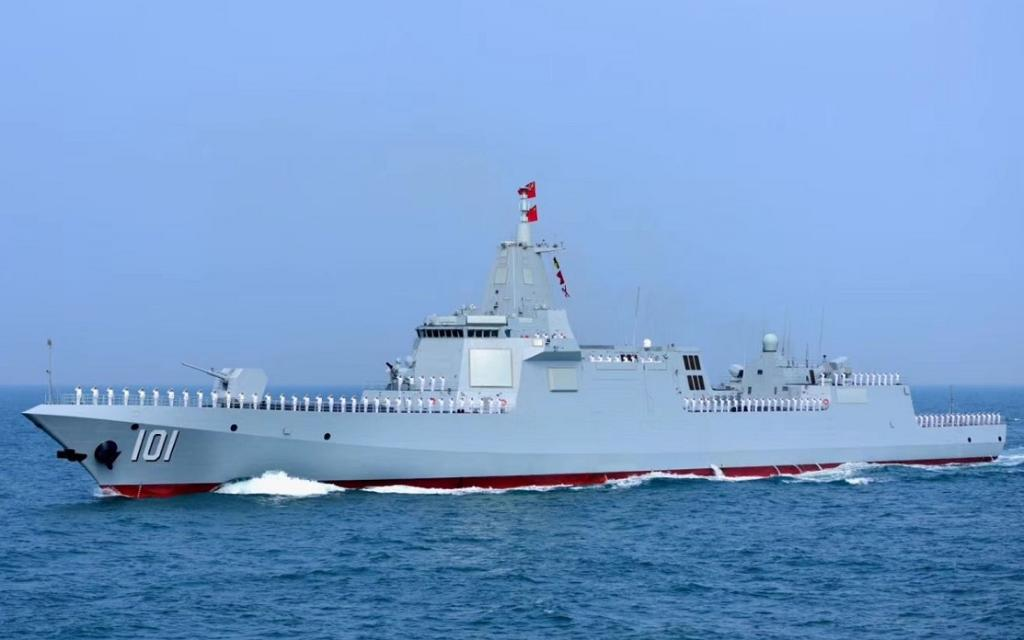Warship: (18, 152, 1006, 508)
